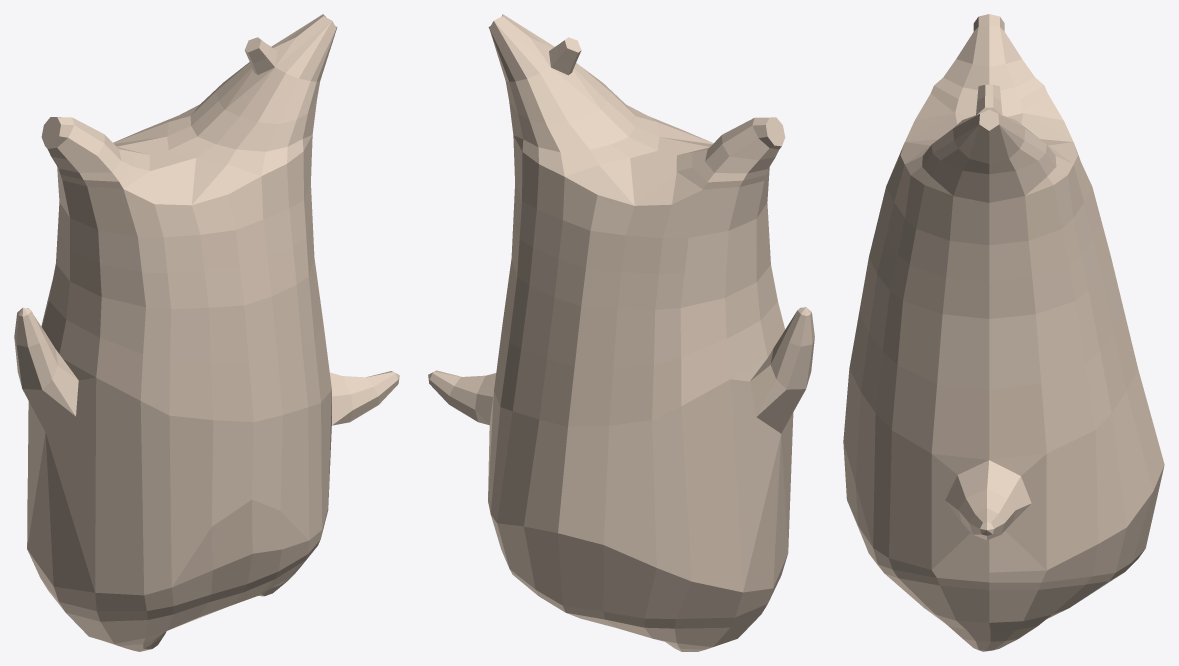
Rendered from frame_0069.obj.
3 renders of one model, left to right at view 1: azimuth 30°, elevation 25°; view 2: azimuth 150°, elevation 25°; view 3: azimuth 270°, elevation 25°, orthographic.
Parts seen in each view (by area): view 1: korok; view 2: korok; view 3: korok.
Boxes of the visible parts, left/top/right/bottom form: korok: left=14, top=14, right=399, bottom=651; korok: left=428, top=14, right=814, bottom=651; korok: left=843, top=14, right=1164, bottom=651.
Size of the model in its own units: 1.5 by 2.19 by 1.07.
